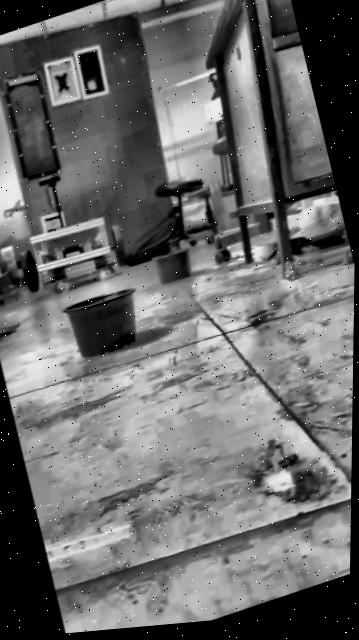pot: (62, 281, 148, 364), (153, 245, 195, 286)
